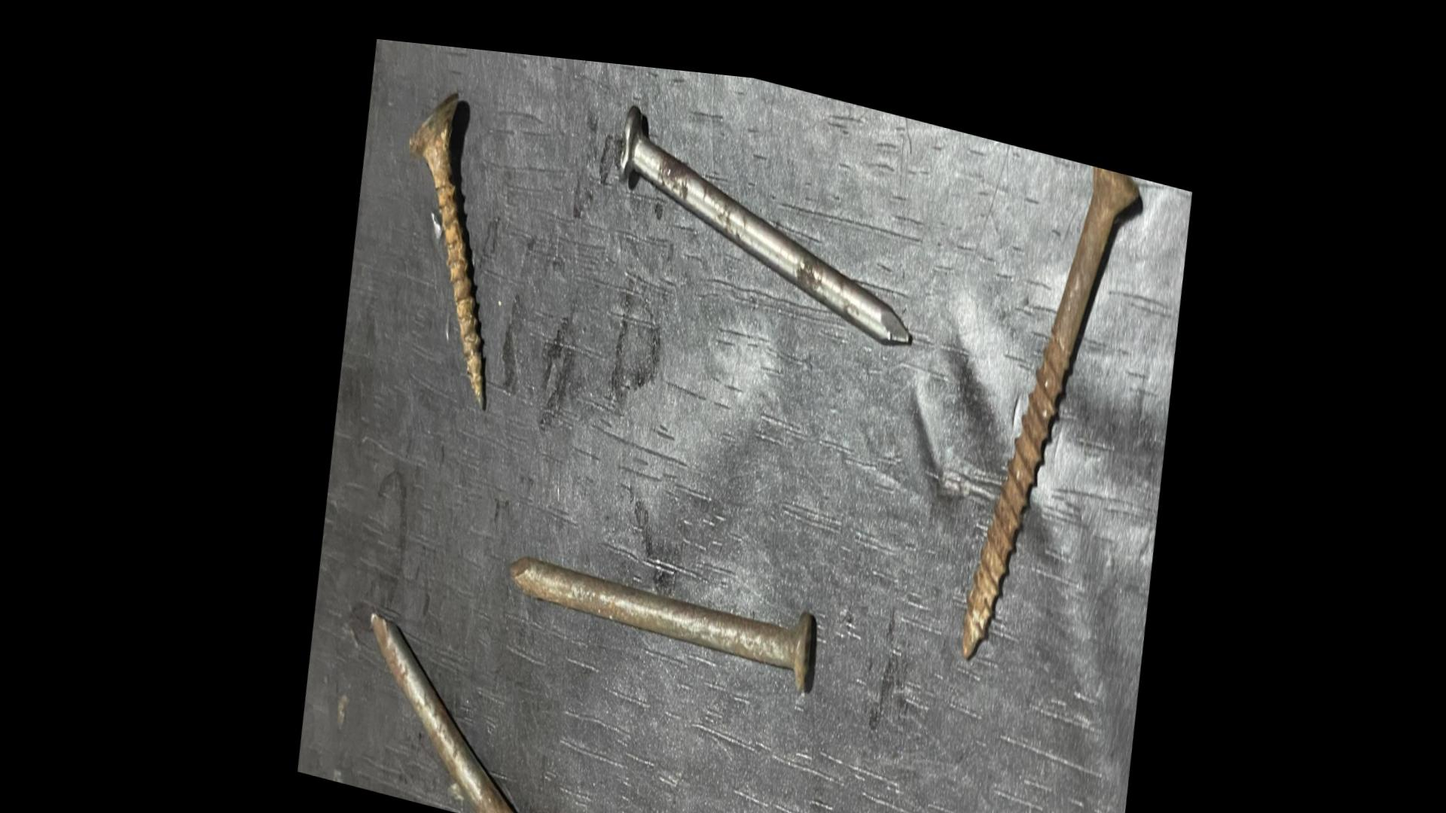nail: (538, 44, 954, 481), (466, 440, 865, 778), (318, 563, 665, 813)
screw: (909, 112, 1170, 728), (335, 28, 549, 466), (771, 761, 1043, 813)
